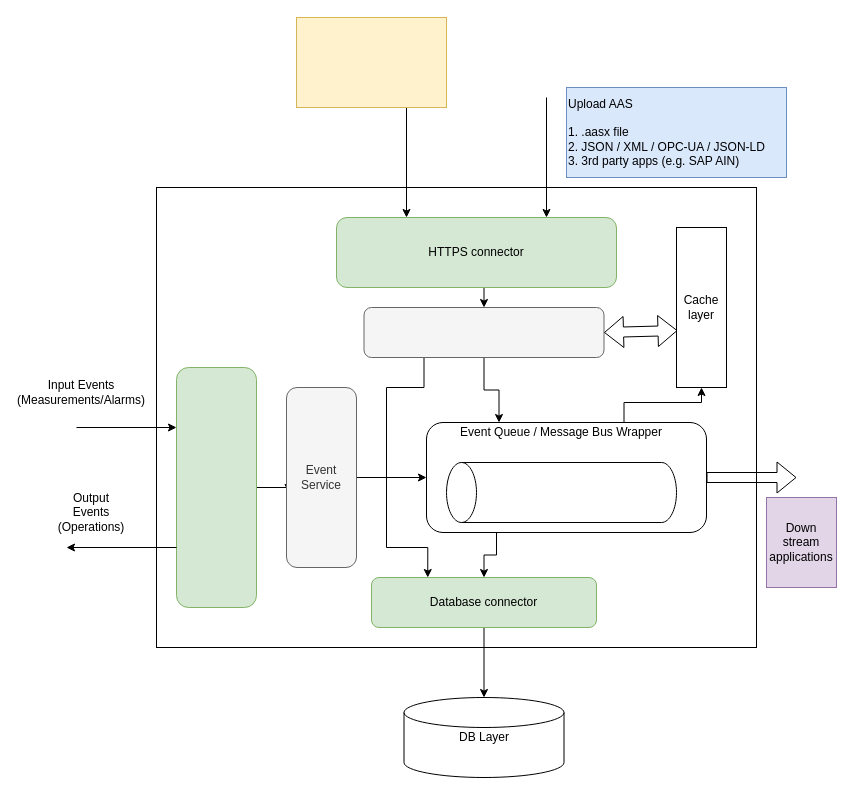
Image size: 854x795. Some labels were removed from this diagram. The shapes that lost their labels are listed below. From the top down, each one's centre as x and y in pixels, then its label:
(371,62): Data Queries (Web application or REST endpoints) 1. JSON over HTTPS 2. JSON-LD
(483,332): Manager service
(216,487): Event connector
(561,492): Message bus
